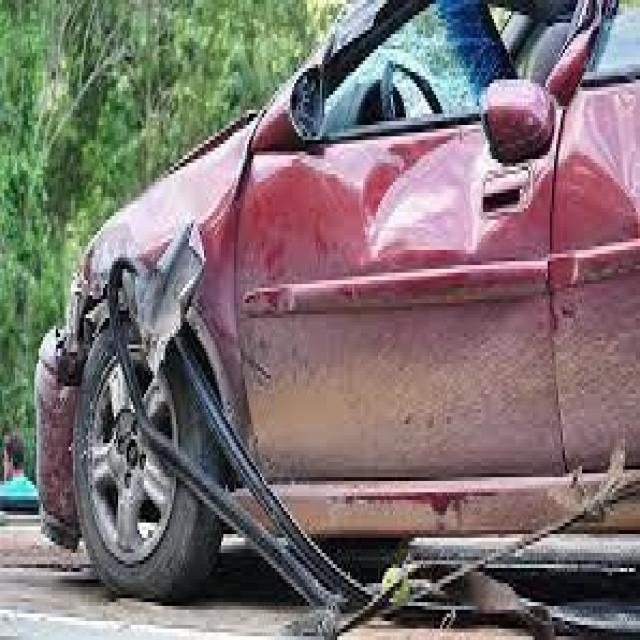damaged: (49, 219, 277, 556), (358, 79, 640, 253), (294, 53, 333, 144)
